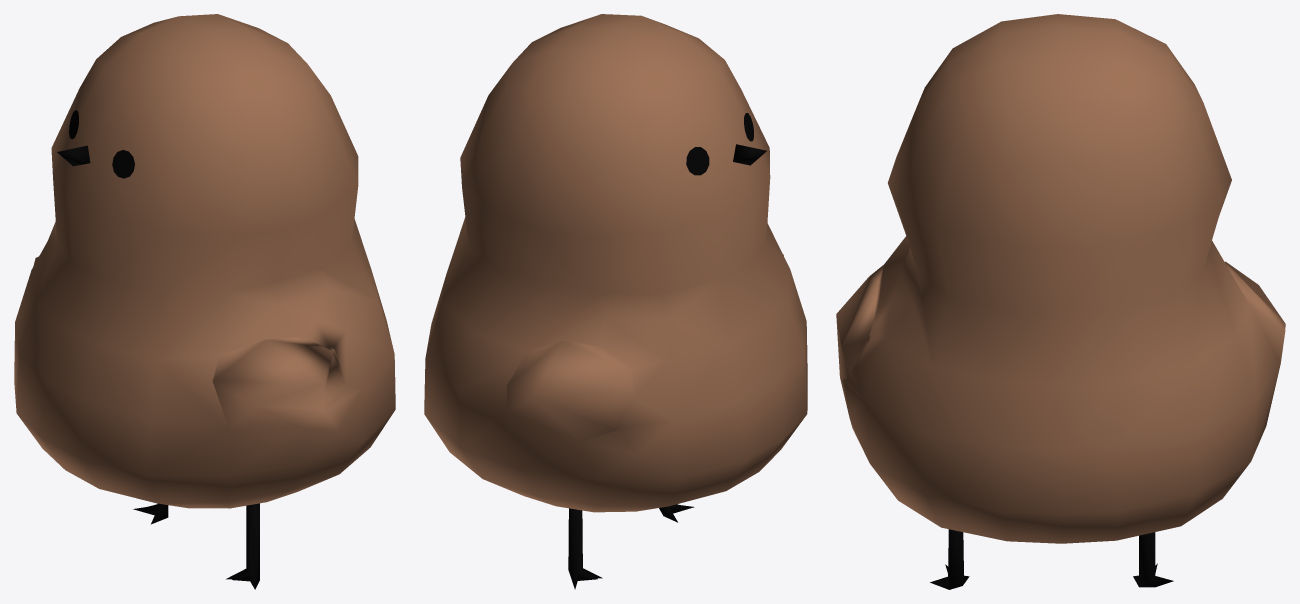
File: Bakery_Bird_01.fbx
The picture shows the model from 3 angles, left to right: view 1: azimuth 30°, elevation 25°; view 2: azimuth 150°, elevation 25°; view 3: azimuth 270°, elevation 25°; orthographic projection. The views are drawn at different scales.
Parts seen in each view (by area): view 1: Bakery_bird_01; view 2: Bakery_bird_01; view 3: Bakery_bird_01.
Boxes of the visible parts, x1,y1,x2,y2 form: Bakery_bird_01: [14, 14, 395, 589]; Bakery_bird_01: [424, 14, 807, 589]; Bakery_bird_01: [836, 14, 1285, 589].
Size of the model in its own units: 44.17 by 65.79 by 47.75.
